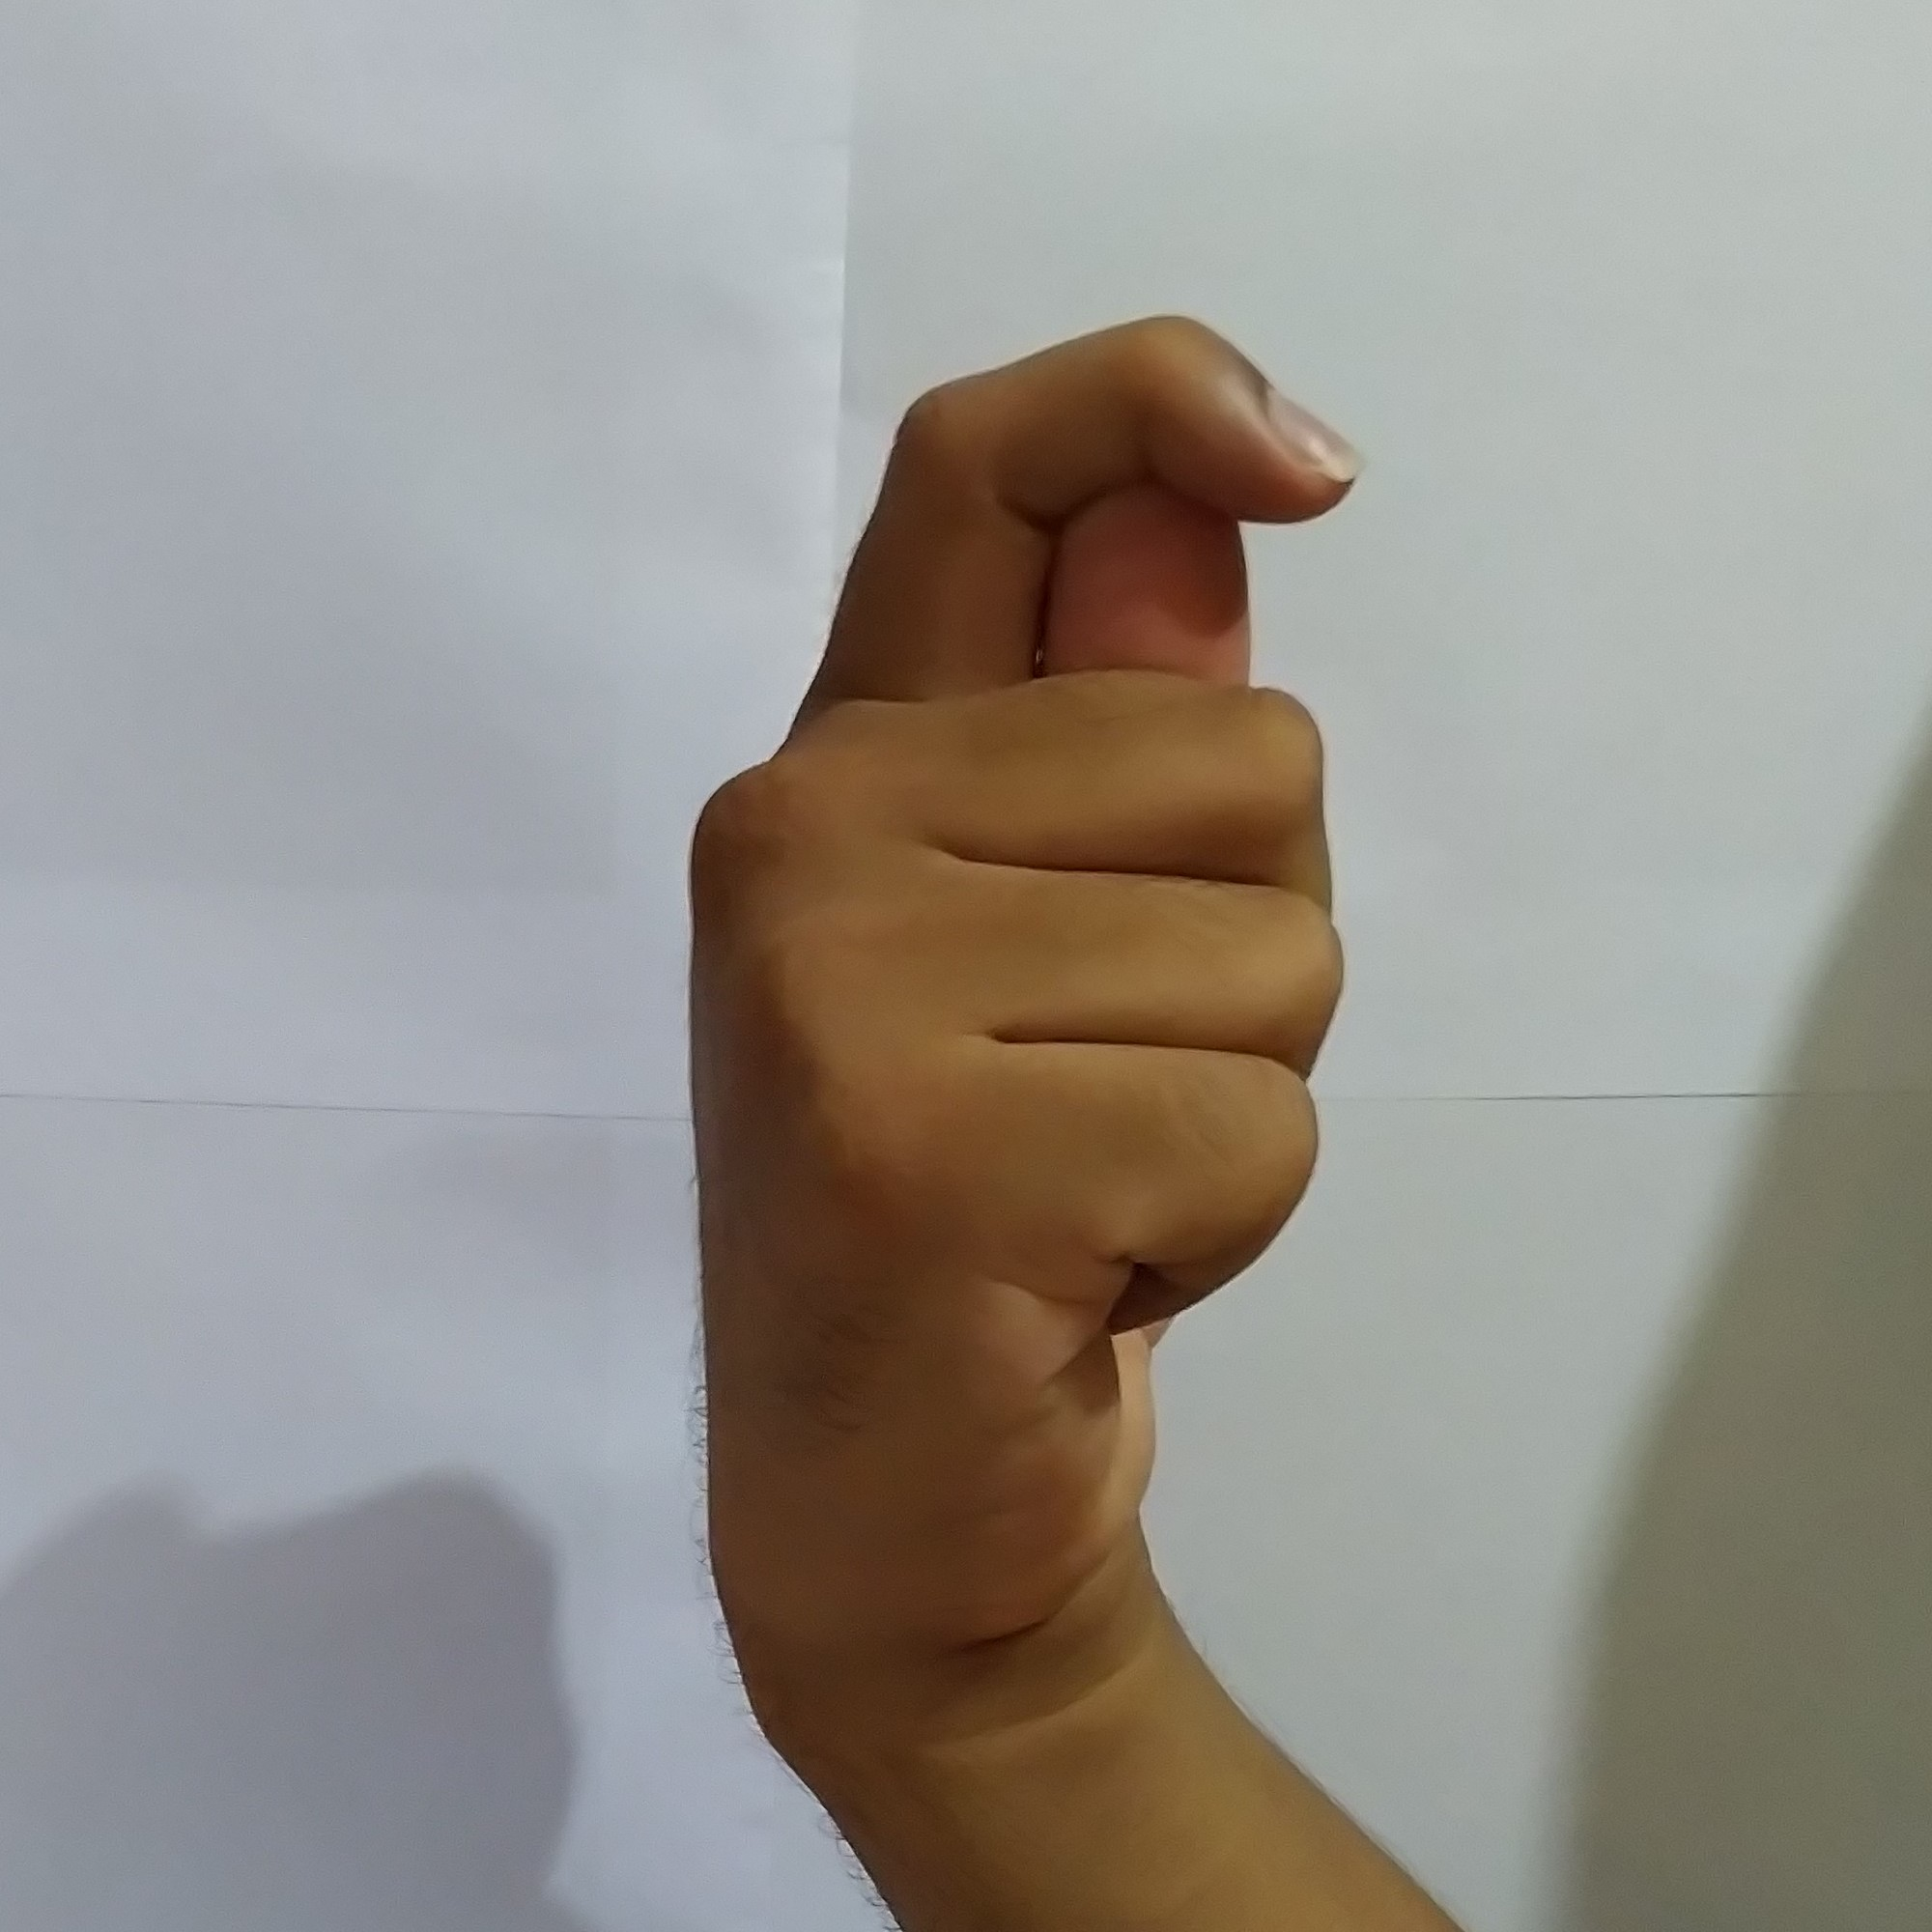T: (642, 274, 1387, 1640)
